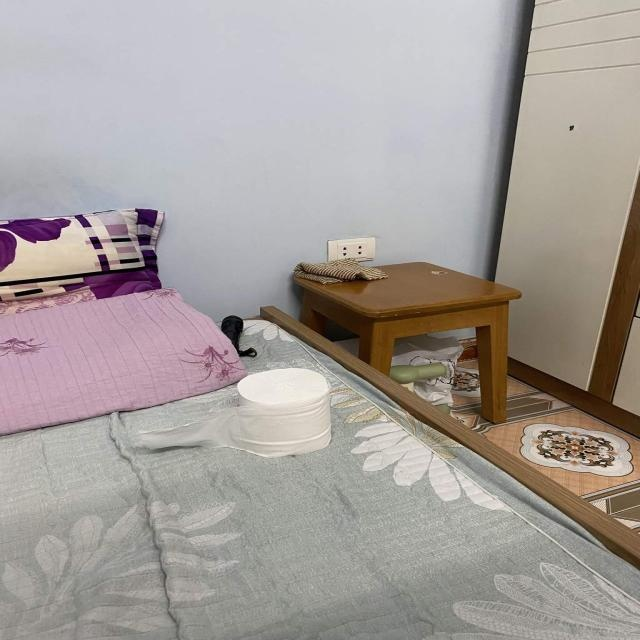outlet: (327, 237, 376, 263)
